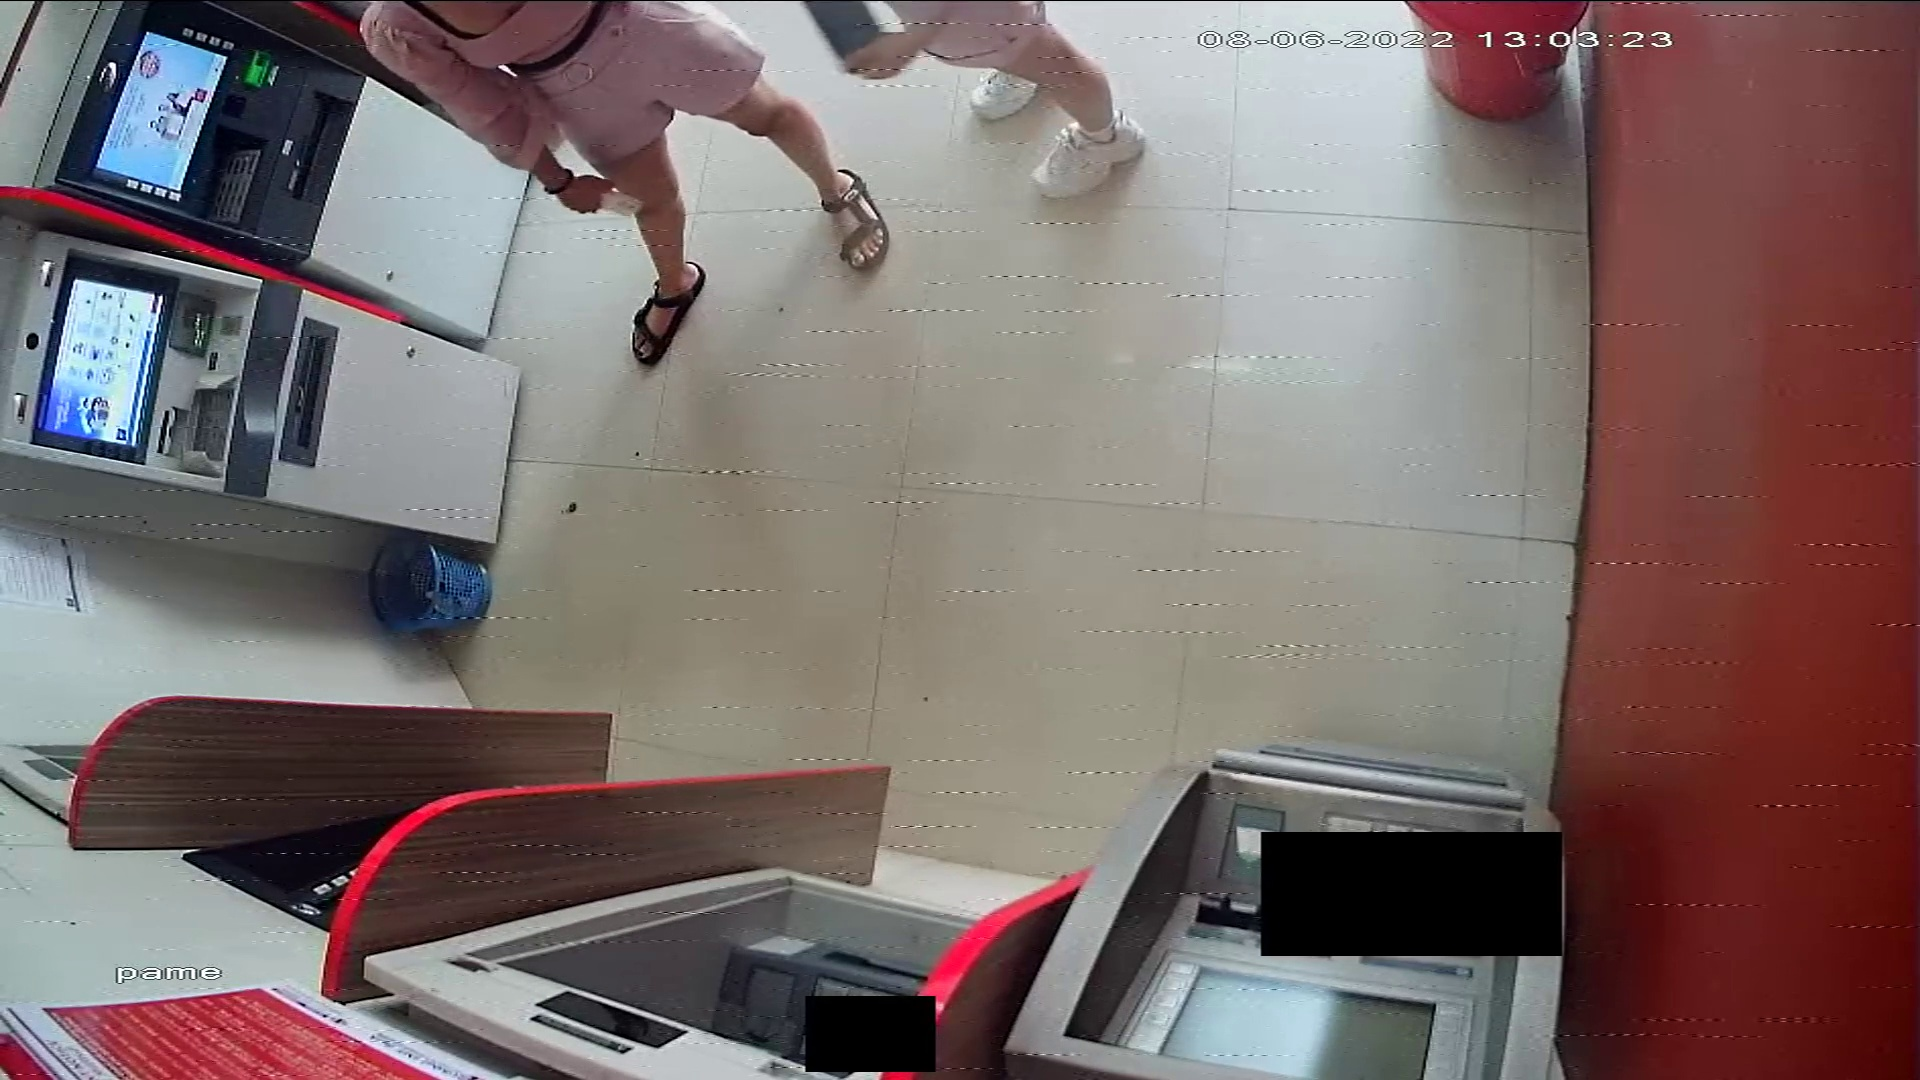person: (354, 5, 891, 365), (822, 6, 1147, 198)
phone: (591, 184, 648, 219)
